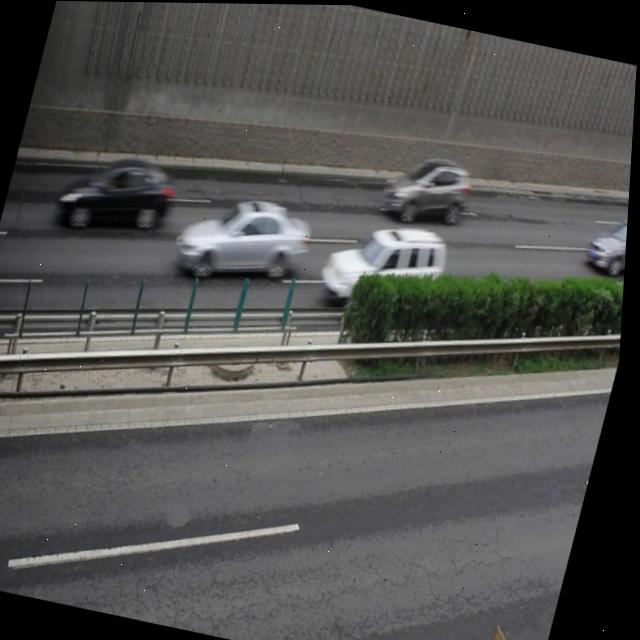car: (175, 184, 320, 293), (56, 149, 180, 246), (381, 149, 478, 230), (588, 212, 630, 271)
truck: (319, 216, 451, 316)
